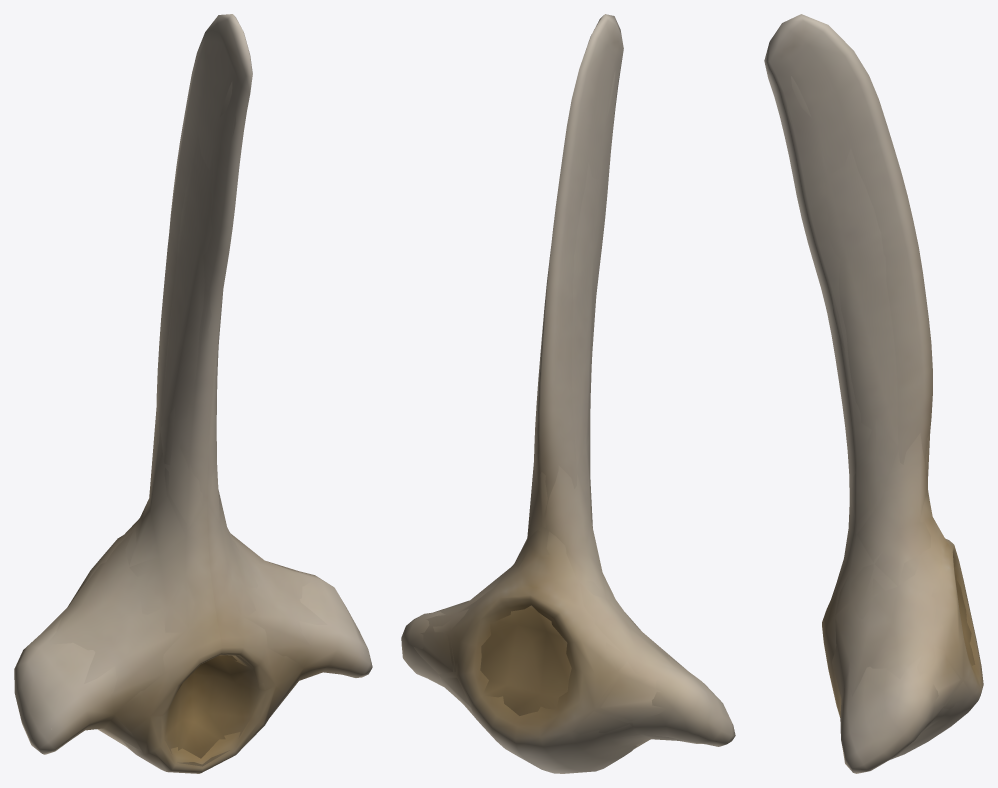
File: vertebrae thoracicae 01.fbx
The picture shows the model from 3 angles, left to right: view 1: azimuth 30°, elevation 25°; view 2: azimuth 150°, elevation 25°; view 3: azimuth 270°, elevation 25°; orthographic projection. The views are drawn at different scales.
Visible parts, largest first — view 1: vertebrae thoracicae 01, vertebrae thoracicae 01 low; view 2: vertebrae thoracicae 01, vertebrae thoracicae 01 low; view 3: vertebrae thoracicae 01, vertebrae thoracicae 01 low.
Boxes of the visible parts, <box> form: vertebrae thoracicae 01: <box>14,14,372,773</box>; vertebrae thoracicae 01 low: <box>40,81,363,766</box>; vertebrae thoracicae 01: <box>401,14,735,773</box>; vertebrae thoracicae 01 low: <box>413,71,686,749</box>; vertebrae thoracicae 01: <box>764,14,983,773</box>; vertebrae thoracicae 01 low: <box>787,76,975,746</box>.
Size of the model in its own units: 4.75 by 10.53 by 2.81.
Materials: 1 (1 with a texture image).
